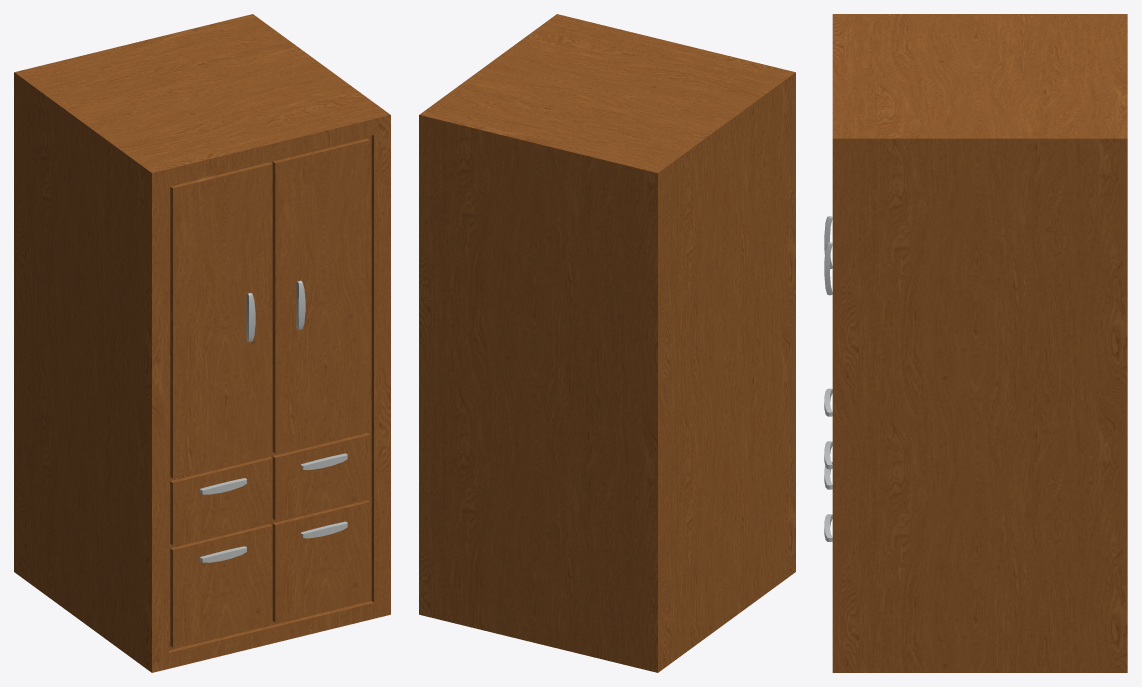
File: cupboard.fbx
The picture shows the model from 3 angles, left to right: view 1: azimuth 30°, elevation 25°; view 2: azimuth 150°, elevation 25°; view 3: azimuth 270°, elevation 25°; orthographic projection. The views are drawn at different scales.
Visible parts, largest first — view 1: pCube37; view 2: pCube37; view 3: pCube37.
Part boxes in pixels (bbox=[...]): pCube37: bbox=[14, 14, 390, 672]; pCube37: bbox=[419, 14, 795, 672]; pCube37: bbox=[832, 14, 1127, 672].
Size of the model in its own units: 1 by 2 by 1.03.
